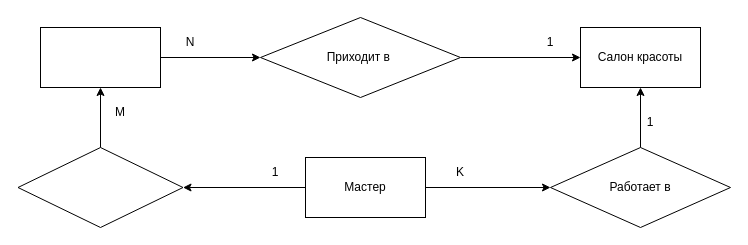
Some shapes in this 748 by 245 pixel diagram are drawn without their labels. The shapes that lost their labels are listed below. From the top down, each one's centre as x and y in pixels, then its label:
pixel 100 57: Клиент
pixel 100 187: Обслуживает
